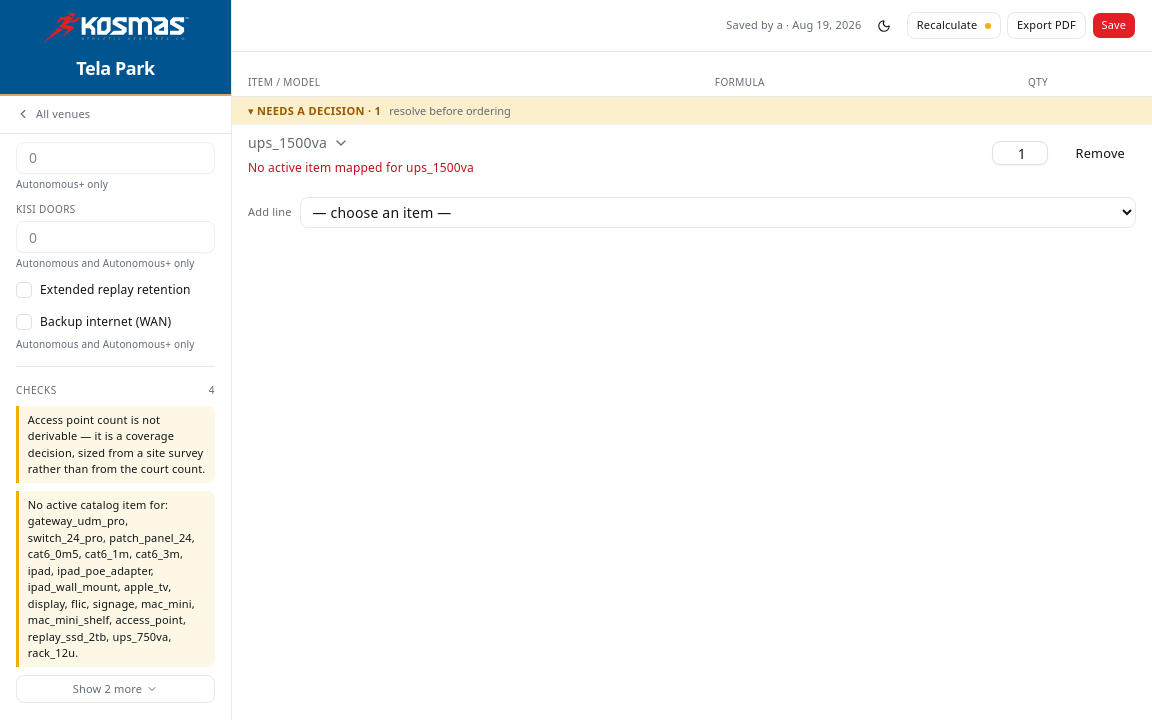
per-venue hardware choice › warns when the venue's chosen item was deactivated
The width and height of the screenshot is (1152, 720).
(page scrolled)
Click the button "Show 2 more" at [116, 689], box [16,675,215,704]
(page scrolled)
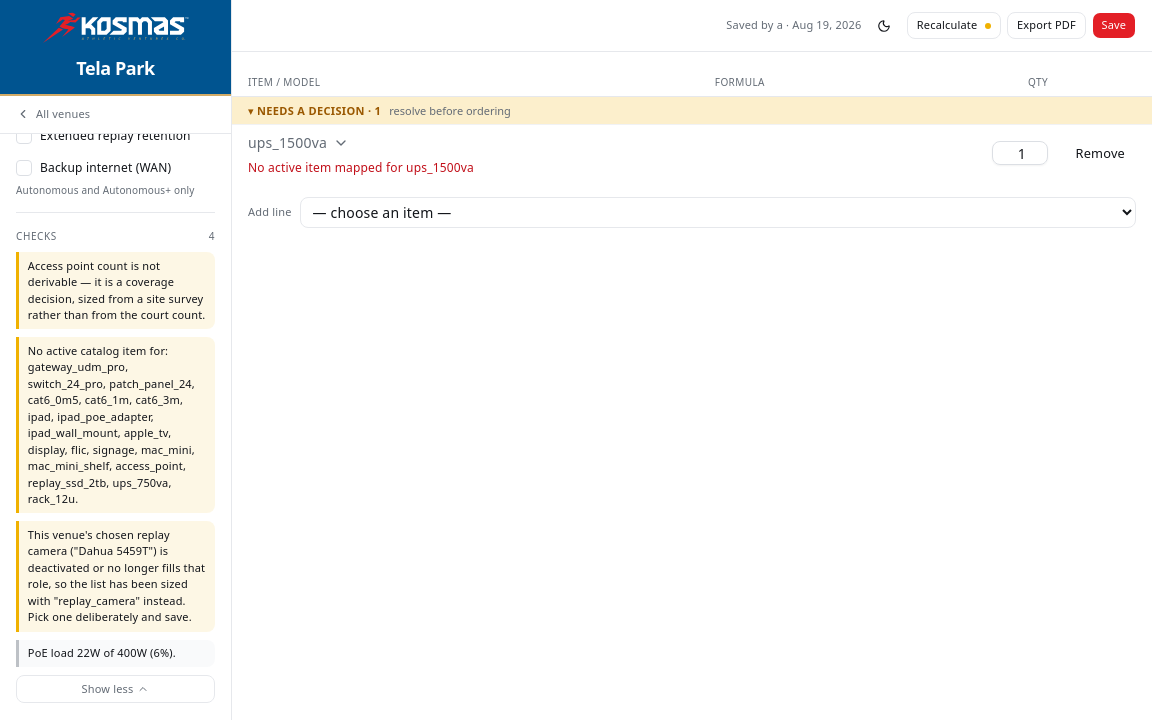
expect the text "deactivated or no longer fills that role" is shown: met, box [28,527,205,624]
